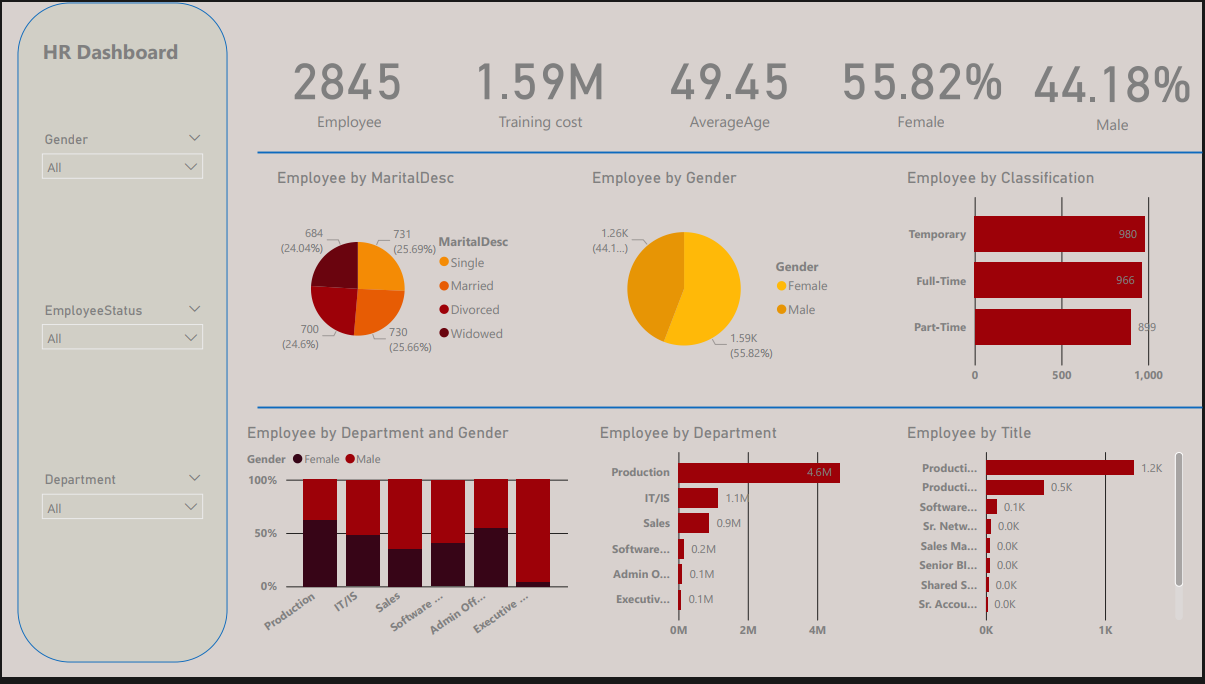

What the dashboard file says about the page in this screenshot:
{"tool":"powerbi","page":{"name":" HR Dashboard","canvas":[1280,720],"ordinal":0},"visuals":[{"type":"shape","box":[16,0,224,704],"z":0},{"type":"shape","box":[272,144,1008,32],"z":1000},{"type":"shape","box":[272,416,1008,32],"z":2000},{"type":"card","fields":{"Values":["Cleaned_HR_Data_Analysis.Total of Employee"]},"box":[272,32,192,112],"z":3000},{"type":"card","fields":{"Values":["Cleaned_HR_Data_Analysis.Total Training cost"]},"box":[476,32,192,112],"z":4000},{"type":"card","fields":{"Values":["Cleaned_HR_Data_Analysis.AverageAge"]},"box":[680,32,192,112],"z":5000},{"type":"card","fields":{"Values":["Cleaned_HR_Data_Analysis.MalePercentage"]},"box":[1088,34.9,192,112],"z":6000},{"type":"card","fields":{"Values":["Cleaned_HR_Data_Analysis.FemalePercentage"]},"box":[884,32,192,112],"z":7000},{"type":"pieChart","fields":{"Y":["CountNonNull(Cleaned_HR_Data_Analysis.Employee ID)"],"Category":["Cleaned_HR_Data_Analysis.MaritalDesc"]},"box":[288,176,272,240],"z":8000},{"type":"pieChart","fields":{"Y":["CountNonNull(Cleaned_HR_Data_Analysis.Employee ID)"],"Category":["Cleaned_HR_Data_Analysis.GenderCode"]},"box":[624,176,272,240],"z":9000},{"type":"barChart","fields":{"Category":["Cleaned_HR_Data_Analysis.EmployeeClassificationType"],"Y":["CountNonNull(Cleaned_HR_Data_Analysis.Employee ID)"]},"box":[960,176,304,240],"z":10000},{"type":"hundredPercentStackedColumnChart","fields":{"Y":["CountNonNull(Cleaned_HR_Data_Analysis.Employee ID)"],"Category":["Cleaned_HR_Data_Analysis.DepartmentType"],"Series":["Cleaned_HR_Data_Analysis.GenderCode"]},"box":[256,448,352,240],"z":11000},{"type":"barChart","fields":{"Category":["Cleaned_HR_Data_Analysis.Title"],"Y":["CountNonNull(Cleaned_HR_Data_Analysis.Employee ID)"]},"box":[960,448,304,240],"z":12000},{"type":"barChart","fields":{"Y":["Sum(Cleaned_HR_Data_Analysis.Employee ID)"],"Category":["Cleaned_HR_Data_Analysis.DepartmentType"]},"box":[632,448,304,240],"z":13000},{"type":"slicer","fields":{"Values":["Cleaned_HR_Data_Analysis.DepartmentType"]},"box":[32,496,192,160],"z":14000},{"type":"slicer","fields":{"Values":["Cleaned_HR_Data_Analysis.EmployeeStatus"]},"box":[32,314.7,192,160],"z":15000},{"type":"slicer","fields":{"Values":["Cleaned_HR_Data_Analysis.GenderCode"]},"box":[32,133.3,192,160],"z":16000},{"type":"textbox","box":[32,32,192,80],"z":17000}]}

Visuals, with their boxes in screenshot pixels (x1, y1, x2, y2), scaled from the page's 1280x720 canvas onto the 1205x684 screenshot:
shape: bbox(15, 0, 226, 669)
shape: bbox(256, 137, 1204, 167)
shape: bbox(256, 395, 1204, 426)
card - Cleaned_HR_Data_Analysis.Total of Employee: bbox(256, 30, 437, 137)
card - Cleaned_HR_Data_Analysis.Total Training cost: bbox(448, 30, 629, 137)
card - Cleaned_HR_Data_Analysis.AverageAge: bbox(640, 30, 821, 137)
card - Cleaned_HR_Data_Analysis.MalePercentage: bbox(1024, 33, 1204, 140)
card - Cleaned_HR_Data_Analysis.FemalePercentage: bbox(832, 30, 1013, 137)
pieChart - CountNonNull(Cleaned_HR_Data_Analysis.Employee ID) x Cleaned_HR_Data_Analysis.MaritalDesc: bbox(271, 167, 527, 395)
pieChart - CountNonNull(Cleaned_HR_Data_Analysis.Employee ID) x Cleaned_HR_Data_Analysis.GenderCode: bbox(587, 167, 844, 395)
barChart - Cleaned_HR_Data_Analysis.EmployeeClassificationType x CountNonNull(Cleaned_HR_Data_Analysis.Employee ID): bbox(904, 167, 1190, 395)
hundredPercentStackedColumnChart - CountNonNull(Cleaned_HR_Data_Analysis.Employee ID) x Cleaned_HR_Data_Analysis.DepartmentType: bbox(241, 426, 572, 654)
barChart - Cleaned_HR_Data_Analysis.Title x CountNonNull(Cleaned_HR_Data_Analysis.Employee ID): bbox(904, 426, 1190, 654)
barChart - Sum(Cleaned_HR_Data_Analysis.Employee ID) x Cleaned_HR_Data_Analysis.DepartmentType: bbox(595, 426, 881, 654)
slicer - Cleaned_HR_Data_Analysis.DepartmentType: bbox(30, 471, 211, 623)
slicer - Cleaned_HR_Data_Analysis.EmployeeStatus: bbox(30, 299, 211, 451)
slicer - Cleaned_HR_Data_Analysis.GenderCode: bbox(30, 127, 211, 279)
textbox: bbox(30, 30, 211, 106)
